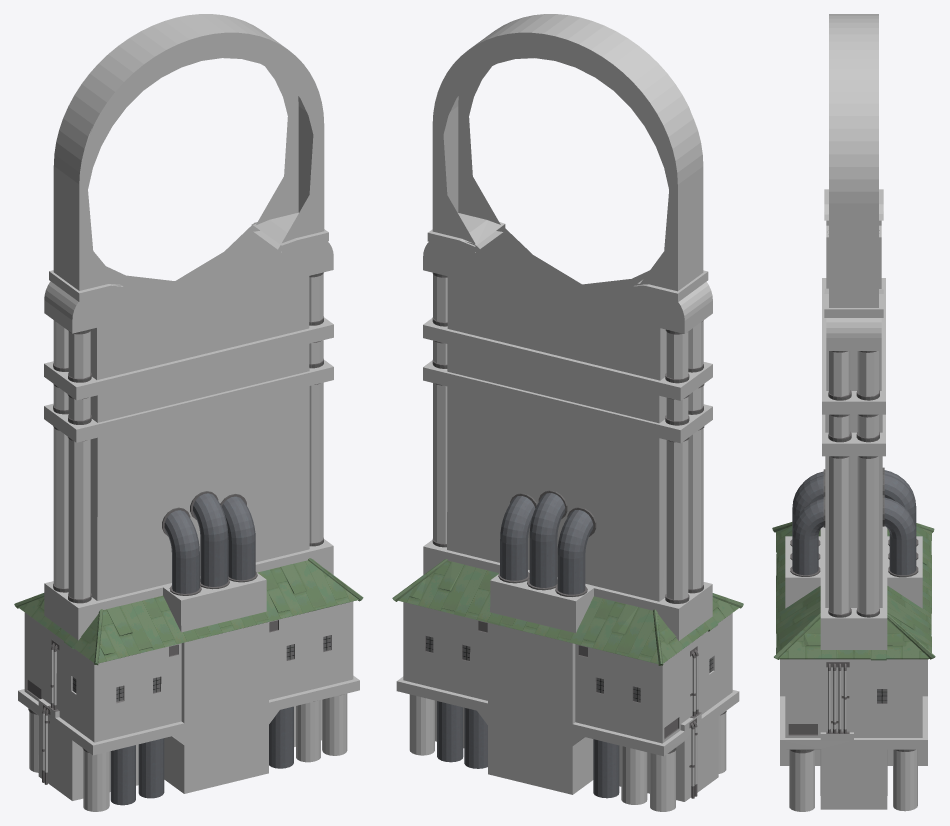
Rendered from AreaJ_PipePillar_Ba.fbx.
3 views of the same model, side by side, from view 1: azimuth 30°, elevation 25°; view 2: azimuth 150°, elevation 25°; view 3: azimuth 270°, elevation 25° (orthographic).
Visible parts, largest first — view 1: SM_ENV_AMVLLG02_AreaJ_PipePillar_Ba.mo; view 2: SM_ENV_AMVLLG02_AreaJ_PipePillar_Ba.mo; view 3: SM_ENV_AMVLLG02_AreaJ_PipePillar_Ba.mo.
Boxes of the visible parts, left/top/right/bottom form: SM_ENV_AMVLLG02_AreaJ_PipePillar_Ba.mo: left=14, top=14, right=363, bottom=811; SM_ENV_AMVLLG02_AreaJ_PipePillar_Ba.mo: left=392, top=14, right=743, bottom=811; SM_ENV_AMVLLG02_AreaJ_PipePillar_Ba.mo: left=772, top=14, right=935, bottom=811.
Size of the model in its own units: 1922 by 4965 by 1019.
